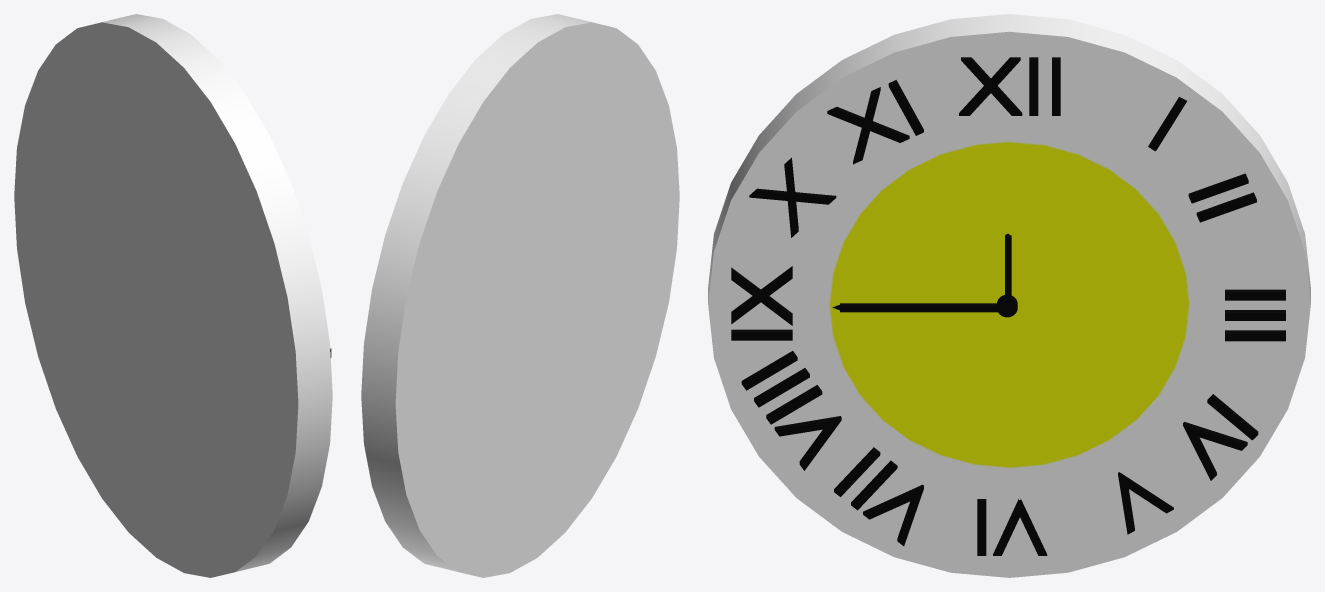
Rendered from Zegar arrows.fbx.
The picture shows the model from 3 angles, left to right: view 1: azimuth 30°, elevation 25°; view 2: azimuth 150°, elevation 25°; view 3: azimuth 270°, elevation 25°; orthographic projection. The views are drawn at different scales.
Parts seen in each view (by area): view 1: Zegar__1_; view 2: Zegar__1_; view 3: Zegar__1_.
Boxes of the visible parts, x1,y1,x2,y2 form: Zegar__1_: [14, 14, 332, 577]; Zegar__1_: [361, 14, 679, 577]; Zegar__1_: [708, 14, 1310, 577].
Size of the model in its own units: 4 by 44.96 by 44.96.
1 material, 1 textured.
